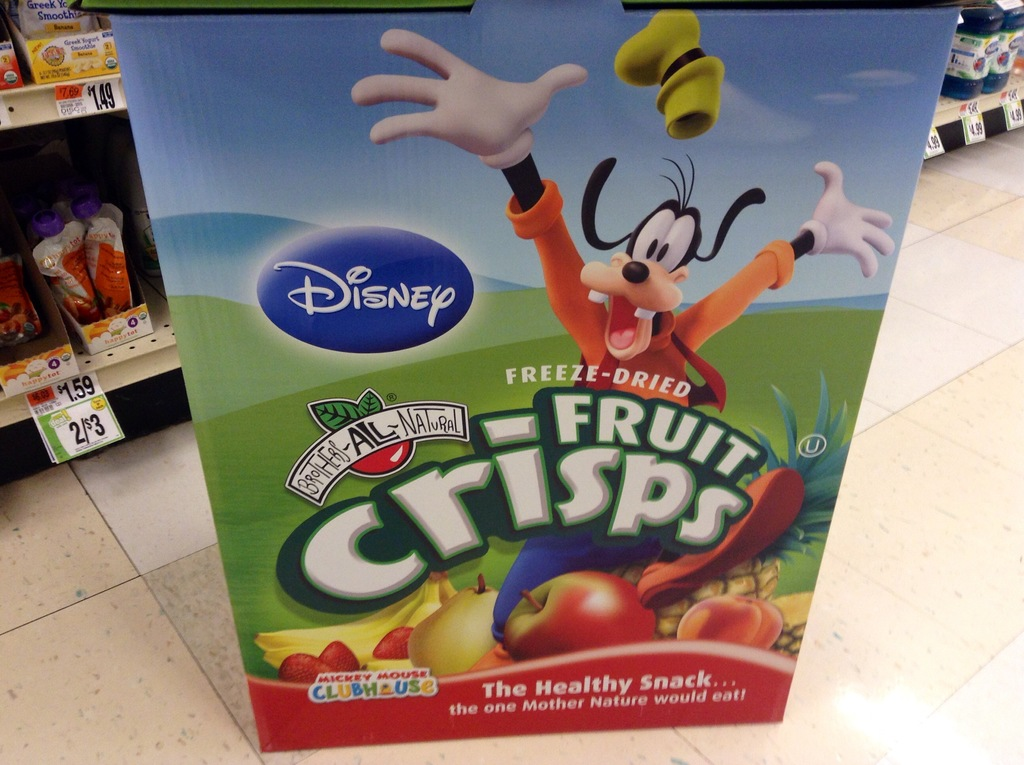Apple: (488, 570, 667, 676)
